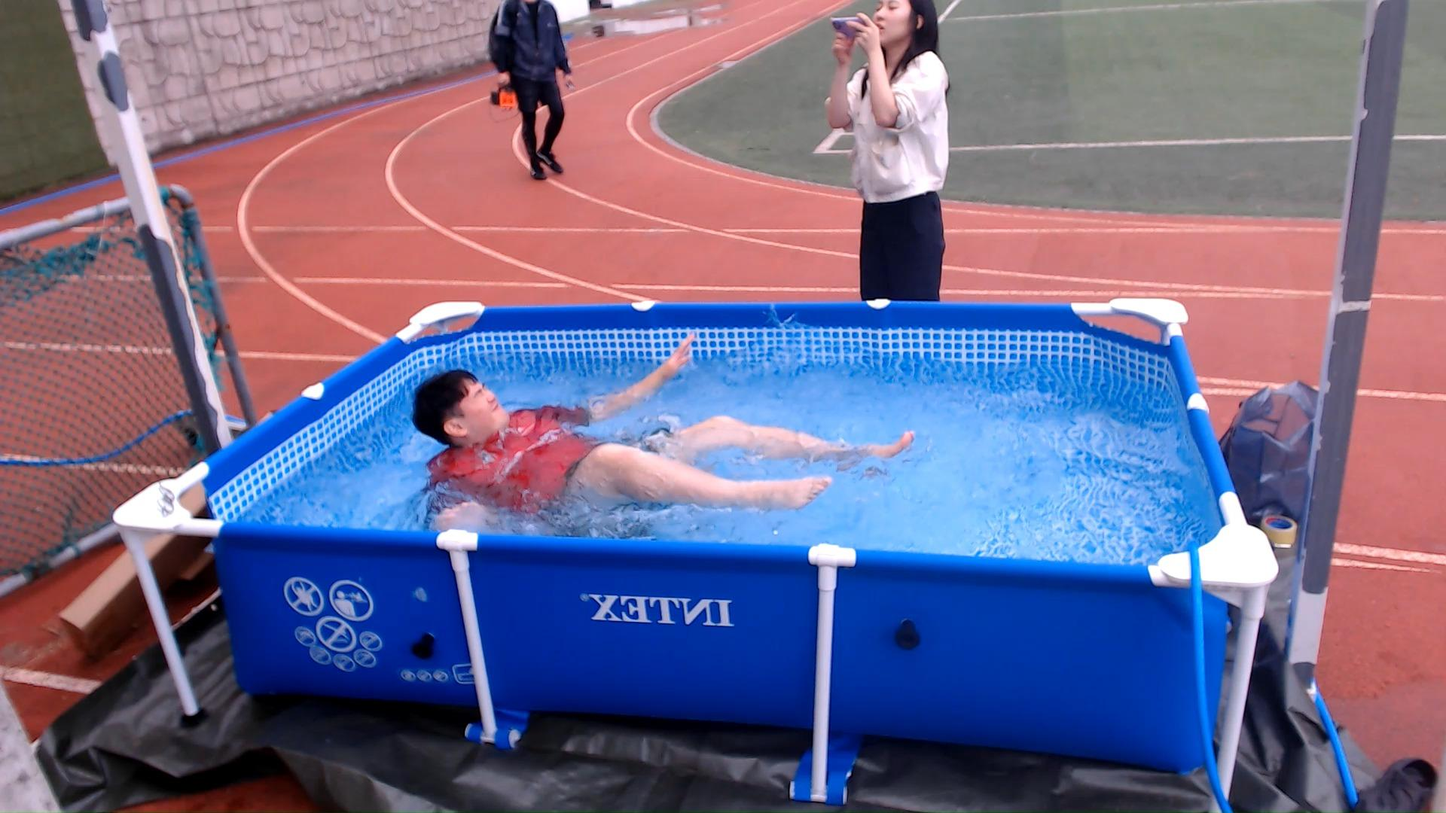Drowning: (425, 321, 926, 528)
Person-out-of-water: (827, 0, 978, 306), (464, 0, 613, 201)
